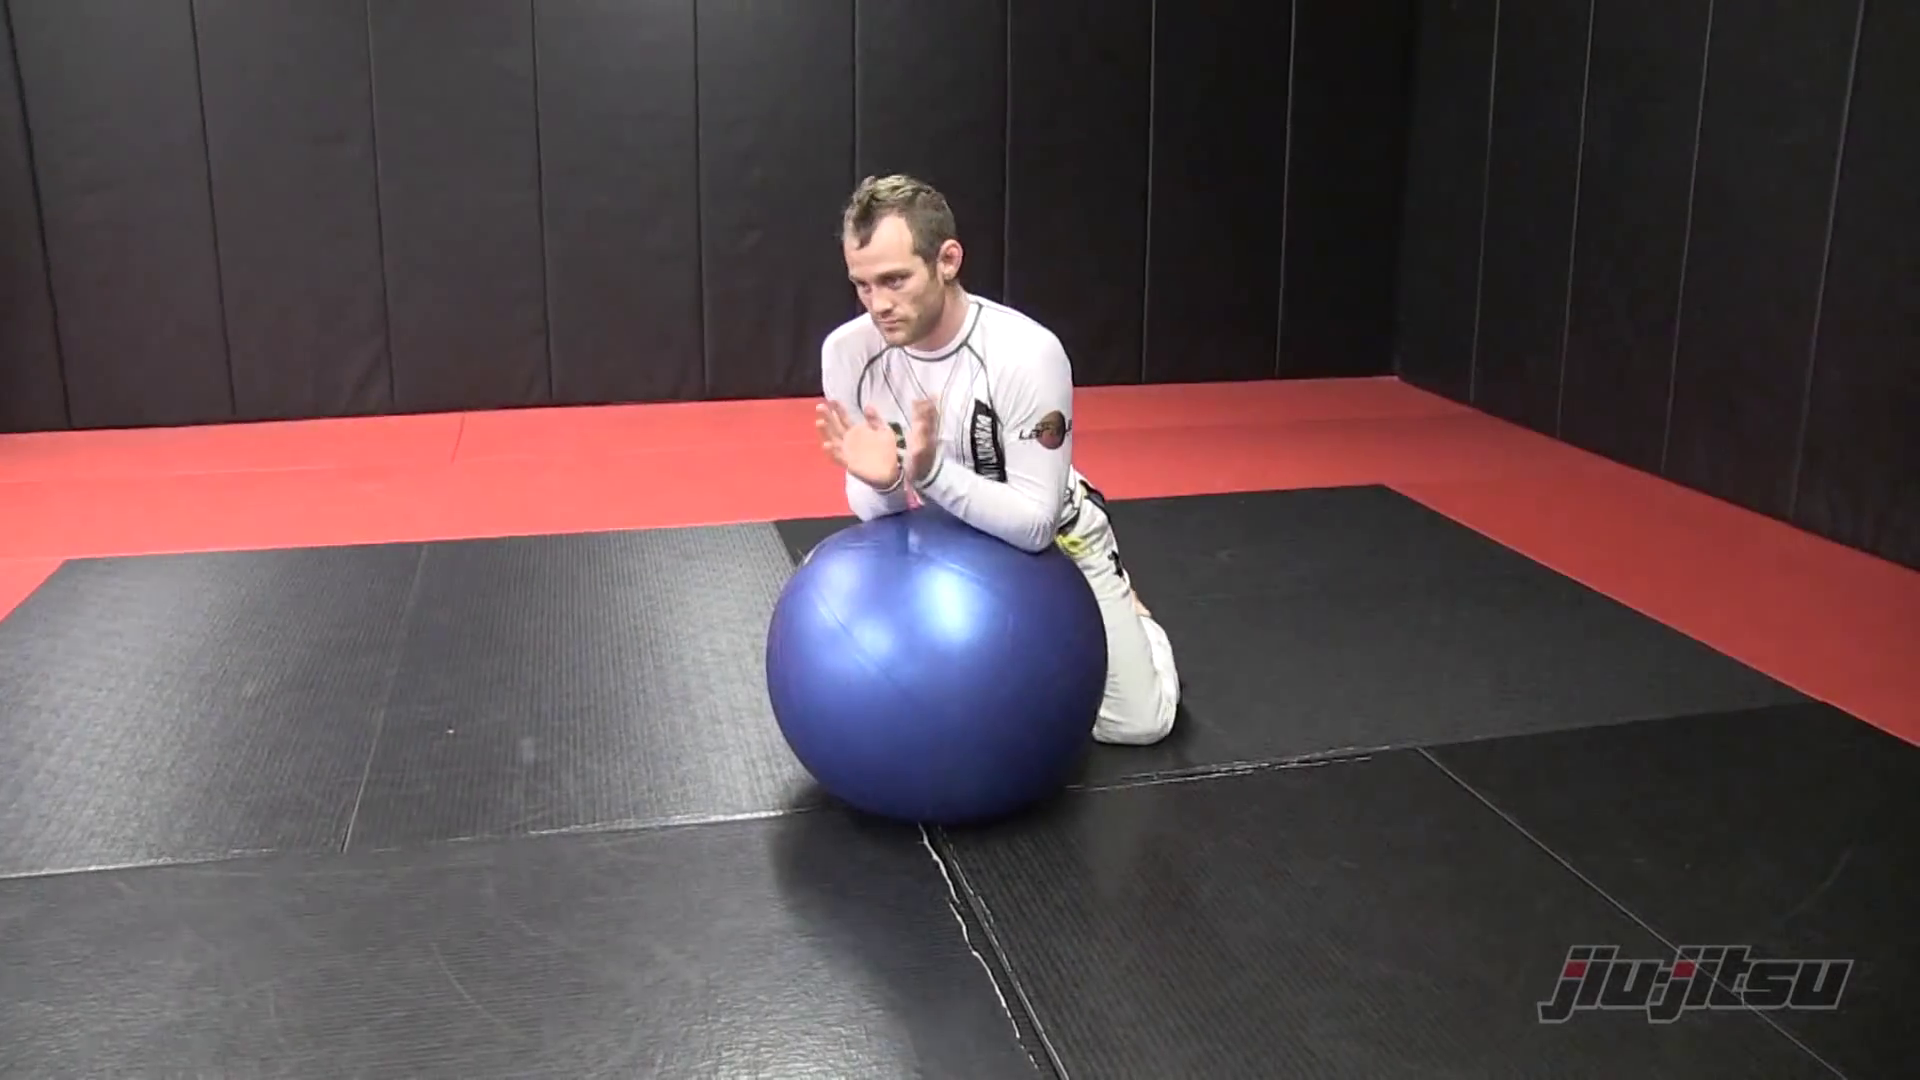yogaball: (757, 508, 1130, 857)
